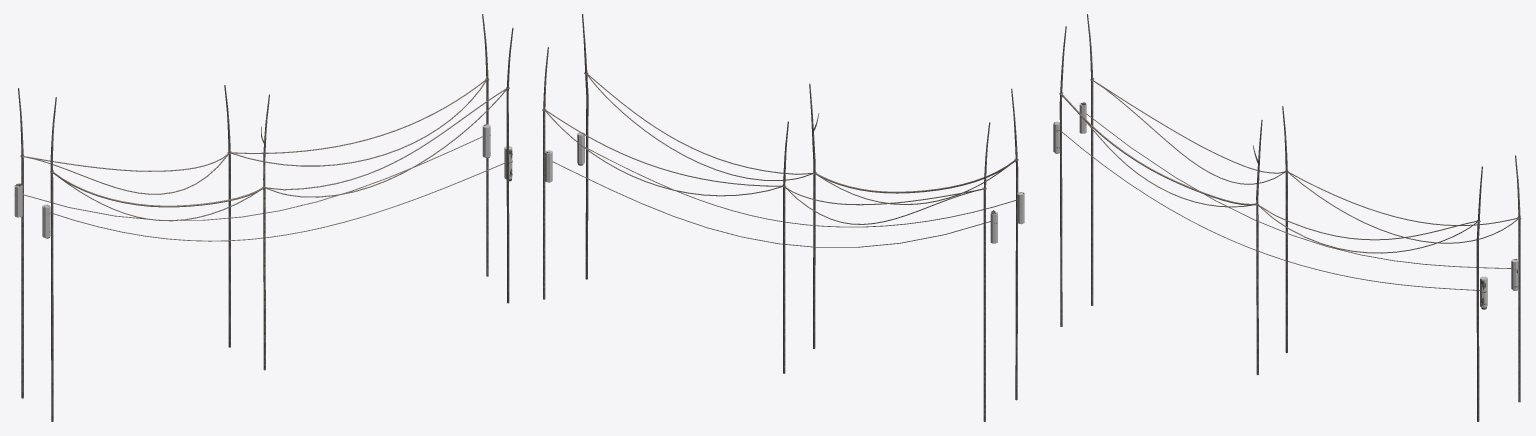
The model's file is SM_HIghBridge_Structure.fbx.
3 renders of one model, left to right at view 1: azimuth 30°, elevation 25°; view 2: azimuth 150°, elevation 25°; view 3: azimuth 330°, elevation 25°, orthographic. The views are drawn at different scales.
Visible parts, largest first — view 1: SM_HIghBridge_Structure, SM_HIghBridge_Structure_ConvexHulls; view 2: SM_HIghBridge_Structure, SM_HIghBridge_Structure_ConvexHulls; view 3: SM_HIghBridge_Structure, SM_HIghBridge_Structure_ConvexHulls.
Boxes of the visible parts, x1,y1,x2,y2 form: SM_HIghBridge_Structure: [14, 14, 513, 421]; SM_HIghBridge_Structure_ConvexHulls: [14, 124, 512, 237]; SM_HIghBridge_Structure: [542, 14, 1024, 421]; SM_HIghBridge_Structure_ConvexHulls: [545, 132, 1024, 243]; SM_HIghBridge_Structure: [1054, 14, 1521, 421]; SM_HIghBridge_Structure_ConvexHulls: [1053, 102, 1518, 307].
Size of the model in its own units: 1463 by 206 by 953.
